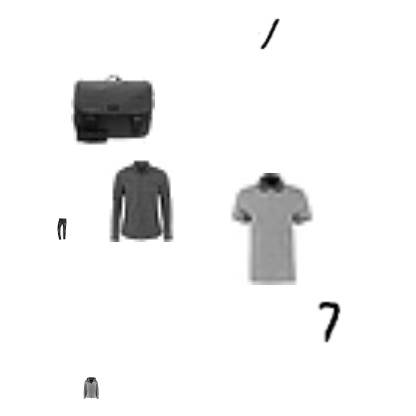2: (108, 83, 164, 139)
6: (292, 212, 376, 296), (70, 170, 98, 198)
8: (254, 270, 296, 312)
Bag: (323, 2, 407, 86)
Coat: (6, 79, 62, 135), (349, 110, 377, 138)
Dress: (179, 158, 263, 242)
Shirt: (83, 26, 97, 40)
